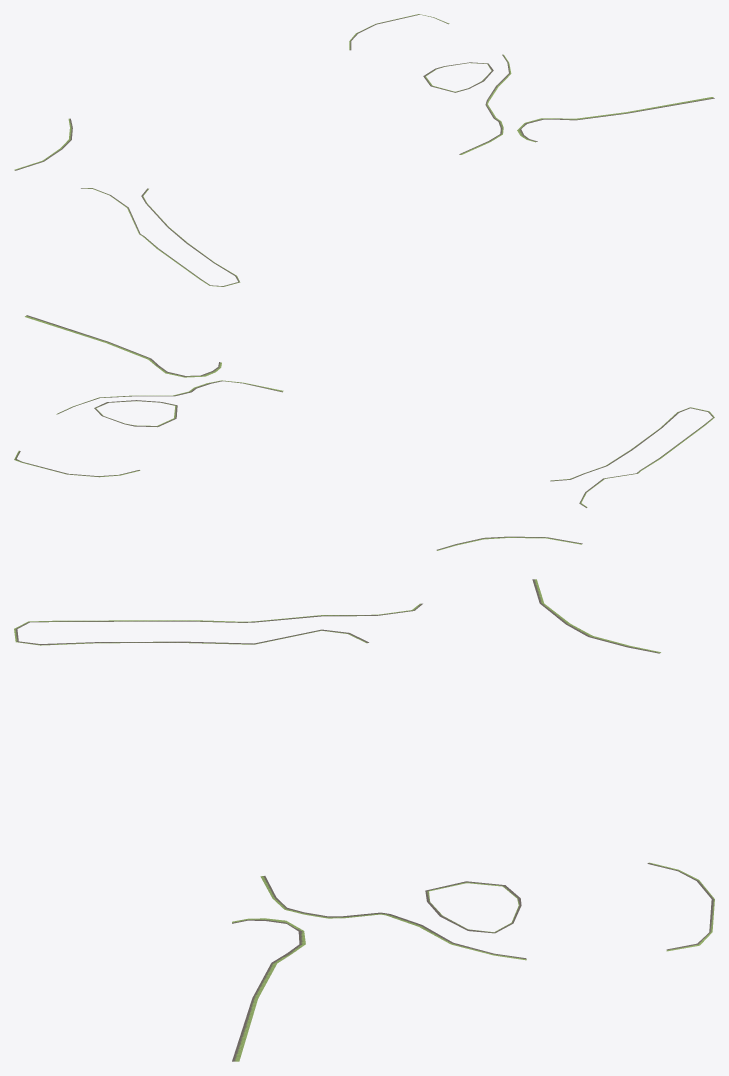
The model's file is kd_stage_135ded_4_125_exterior.glb.
The picture shows the model from 3 angles, top to bottom: view 1: azimuth 30°, elevation 25°; view 2: azimuth 150°, elevation 25°; view 3: azimuth 270°, elevation 25°; orthographic projection. The views are drawn at different scales.
Visible parts, largest first — view 1: kd_stage_135ded_4_125_exterior; view 2: kd_stage_135ded_4_125_exterior; view 3: kd_stage_135ded_4_125_exterior.
Part boxes in pixels (x1,y1,x2,y2): kd_stage_135ded_4_125_exterior: (14, 14, 714, 286); kd_stage_135ded_4_125_exterior: (14, 315, 714, 550); kd_stage_135ded_4_125_exterior: (14, 579, 714, 1061).
Size of the model in its own units: 16.65 by 0.354 by 10.45.
1 material, 1 textured.
